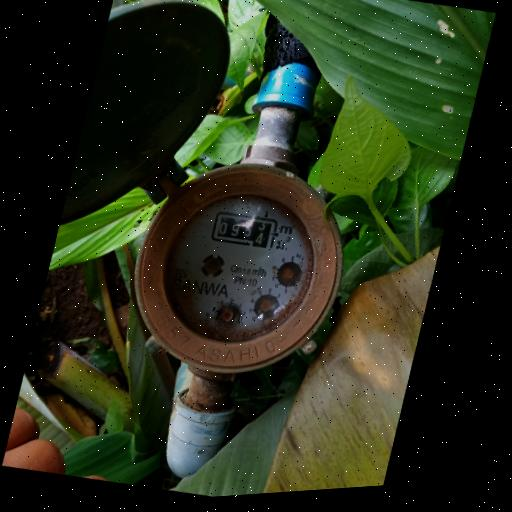0: (216, 216, 233, 238)
4: (251, 221, 270, 248)
5: (240, 218, 258, 242)
9: (227, 218, 245, 240)
border_water_meter_number: (209, 206, 282, 255)
